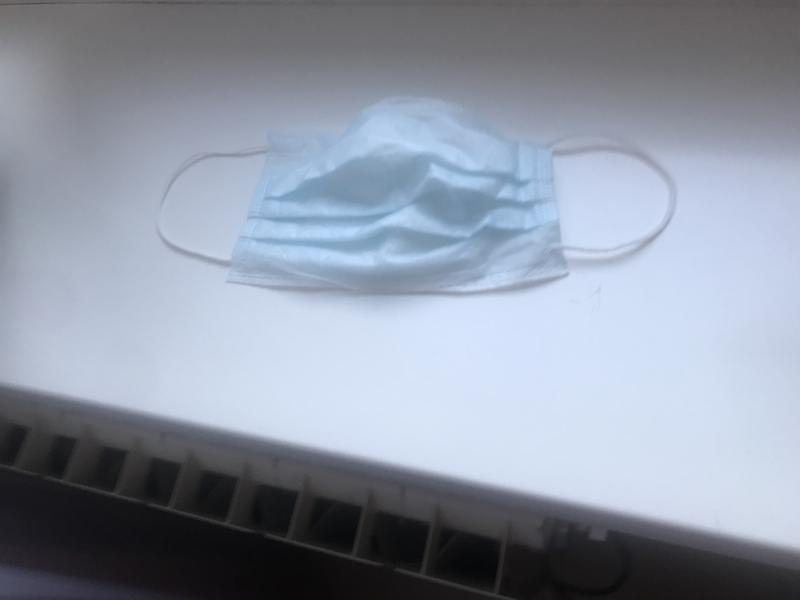medical_mask: (154, 127, 678, 290)
